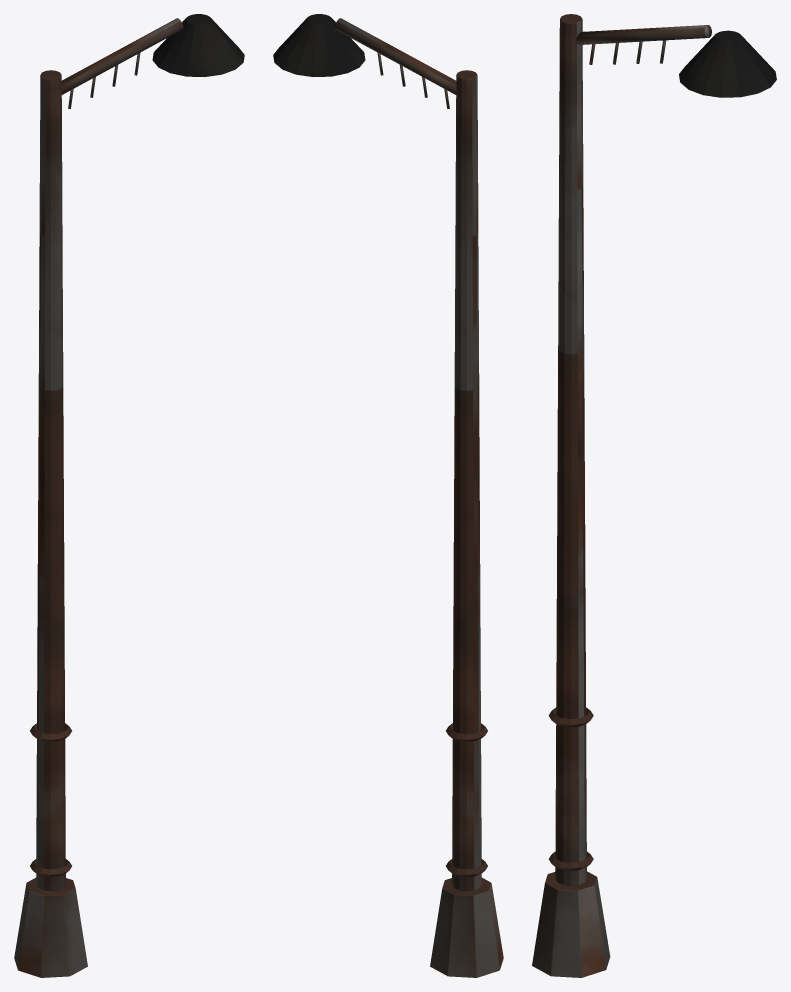
Rendered from R05_street_lamp.glb.
3 renders of one model, left to right at view 1: azimuth 30°, elevation 25°; view 2: azimuth 150°, elevation 25°; view 3: azimuth 330°, elevation 25°, orthographic. The views are drawn at different scales.
Parts seen in each view (by area): view 1: R05_street_lamp; view 2: R05_street_lamp; view 3: R05_street_lamp.
Part boxes in pixels (bbox=[...]): R05_street_lamp: bbox=[14, 14, 244, 977]; R05_street_lamp: bbox=[273, 14, 503, 977]; R05_street_lamp: bbox=[532, 14, 776, 977].
Size of the model in its own units: 1.27 by 5 by 0.4622.
3 materials, 3 textured.
